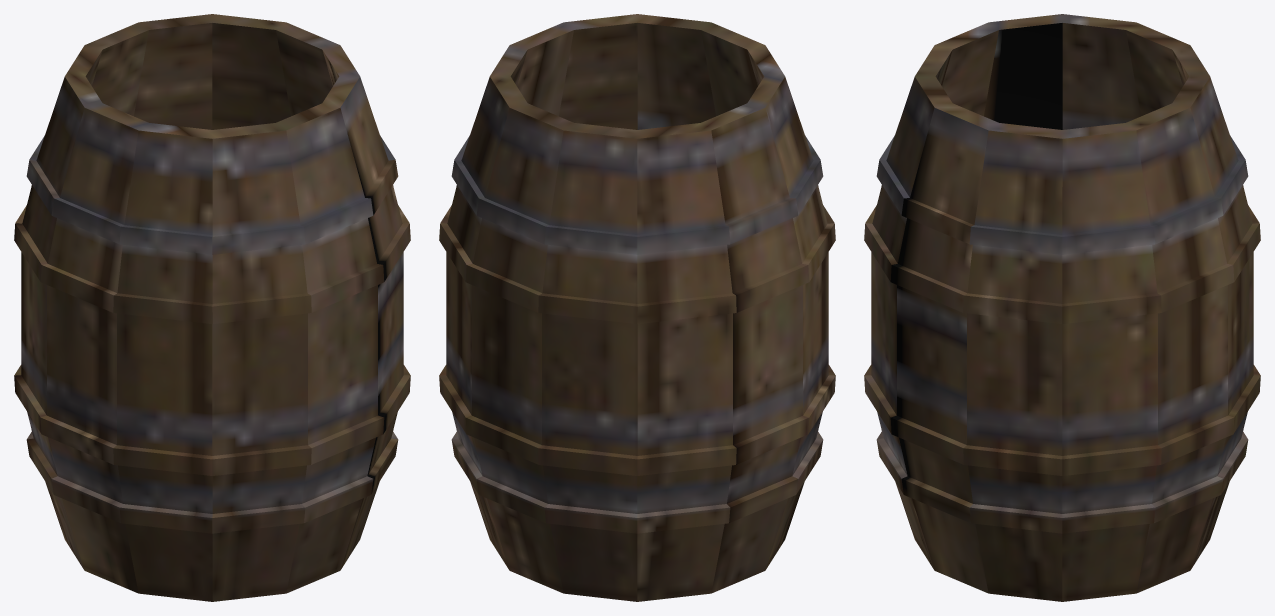
Rendered from crate_1.obj.
3 views of the same model, side by side, from view 1: azimuth 30°, elevation 25°; view 2: azimuth 150°, elevation 25°; view 3: azimuth 270°, elevation 25° (orthographic).
Parts seen in each view (by area): view 1: barrel2_barrel2_0; view 2: barrel2_barrel2_0; view 3: barrel2_barrel2_0.
Part boxes in pixels (left/top/right/bottom): barrel2_barrel2_0: left=14, top=14, right=410, bottom=601; barrel2_barrel2_0: left=439, top=14, right=835, bottom=601; barrel2_barrel2_0: left=864, top=14, right=1260, bottom=601.
Bounding box in the file's own units: 1.06 × 1.36 × 1.06.
Materials: 1 (1 with a texture image).
